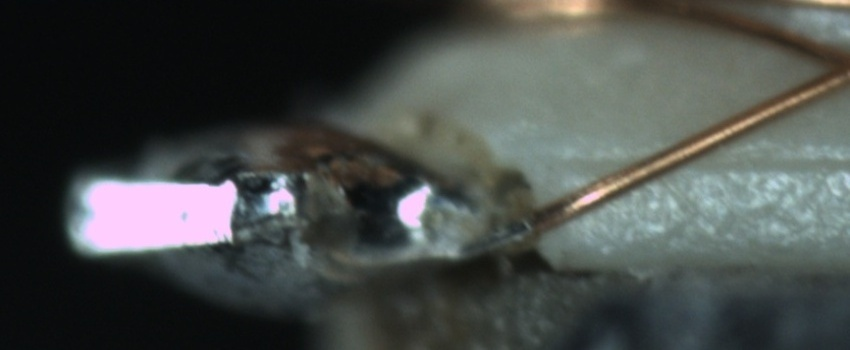CL: (803, 32, 850, 95)
DL: (552, 128, 850, 191)
